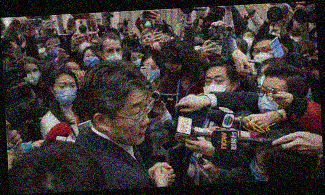mask_weared_incorrect: (47, 36, 62, 55)
with_mask: (256, 83, 284, 115), (202, 73, 232, 101), (249, 147, 271, 181), (53, 80, 79, 107), (22, 65, 42, 87), (252, 45, 274, 64), (143, 63, 162, 83), (165, 65, 187, 81), (103, 46, 122, 62), (83, 51, 101, 66), (240, 32, 254, 51), (129, 53, 146, 68), (255, 70, 268, 88), (37, 43, 50, 59), (78, 39, 94, 51), (270, 27, 282, 40), (117, 24, 125, 32), (144, 20, 152, 28), (179, 15, 185, 21)
without_mask: (107, 93, 152, 146), (64, 64, 82, 81), (142, 33, 154, 47)
